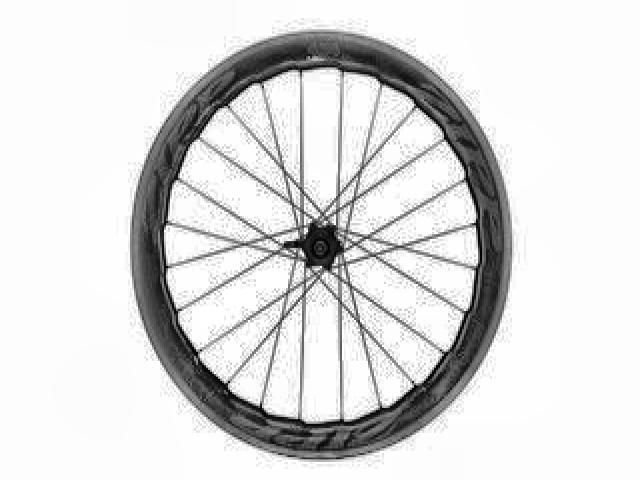wheel: (127, 27, 516, 464)
